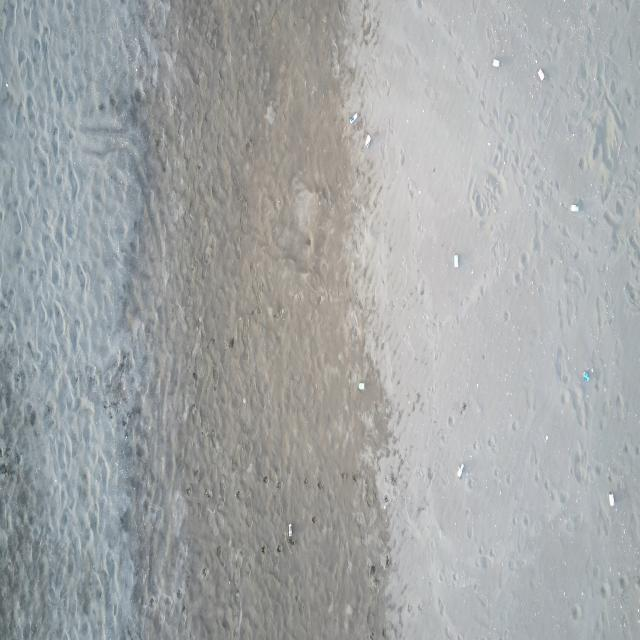Garbage: (348, 111, 357, 123), (456, 464, 464, 477), (364, 134, 371, 148), (287, 523, 292, 542), (569, 203, 579, 212), (536, 68, 543, 80), (492, 57, 500, 67), (583, 369, 590, 380), (608, 491, 613, 506), (452, 253, 457, 267), (357, 382, 364, 390), (544, 433, 547, 440)
